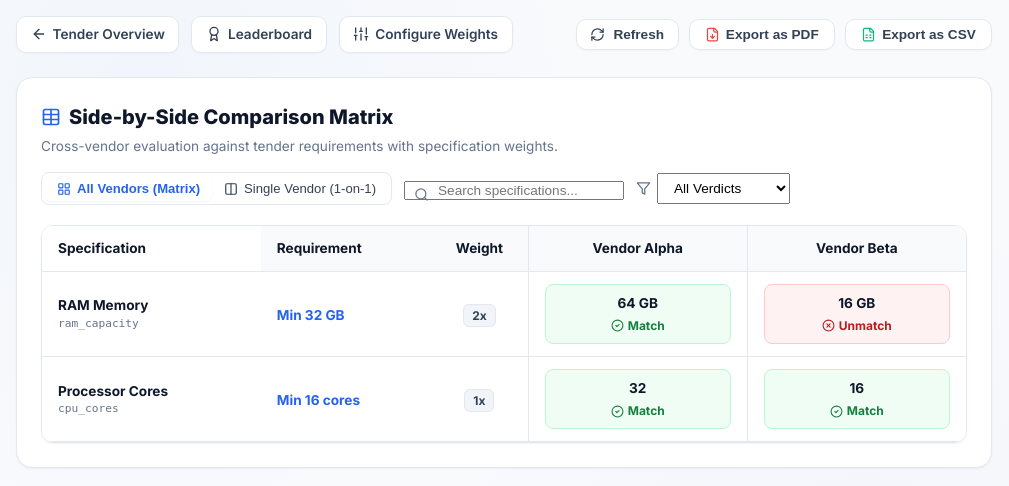
Test: ComparisonMatrixPage › filters rows when searching by spec name
Expected: the text "RAM Memory" is shown, [58, 297, 148, 313]
Expected: the text "Processor Cores" is shown, [58, 382, 168, 398]
Step 1. Type "RAM" into the field with placeholder "Search specifications..." → (514, 190), box [404, 181, 624, 200]
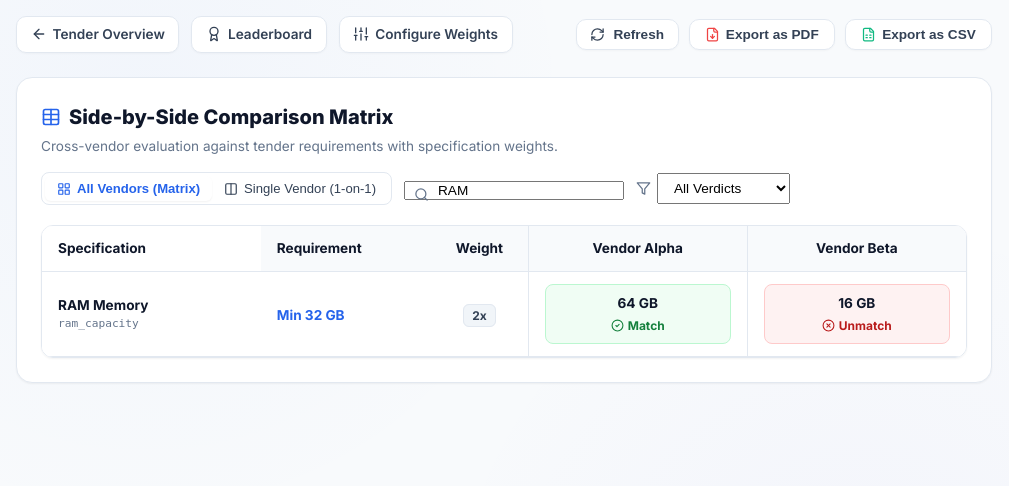
Expected: the text "RAM Memory" is shown, [58, 297, 148, 313]
Result: the text "Processor Cores" is gone
